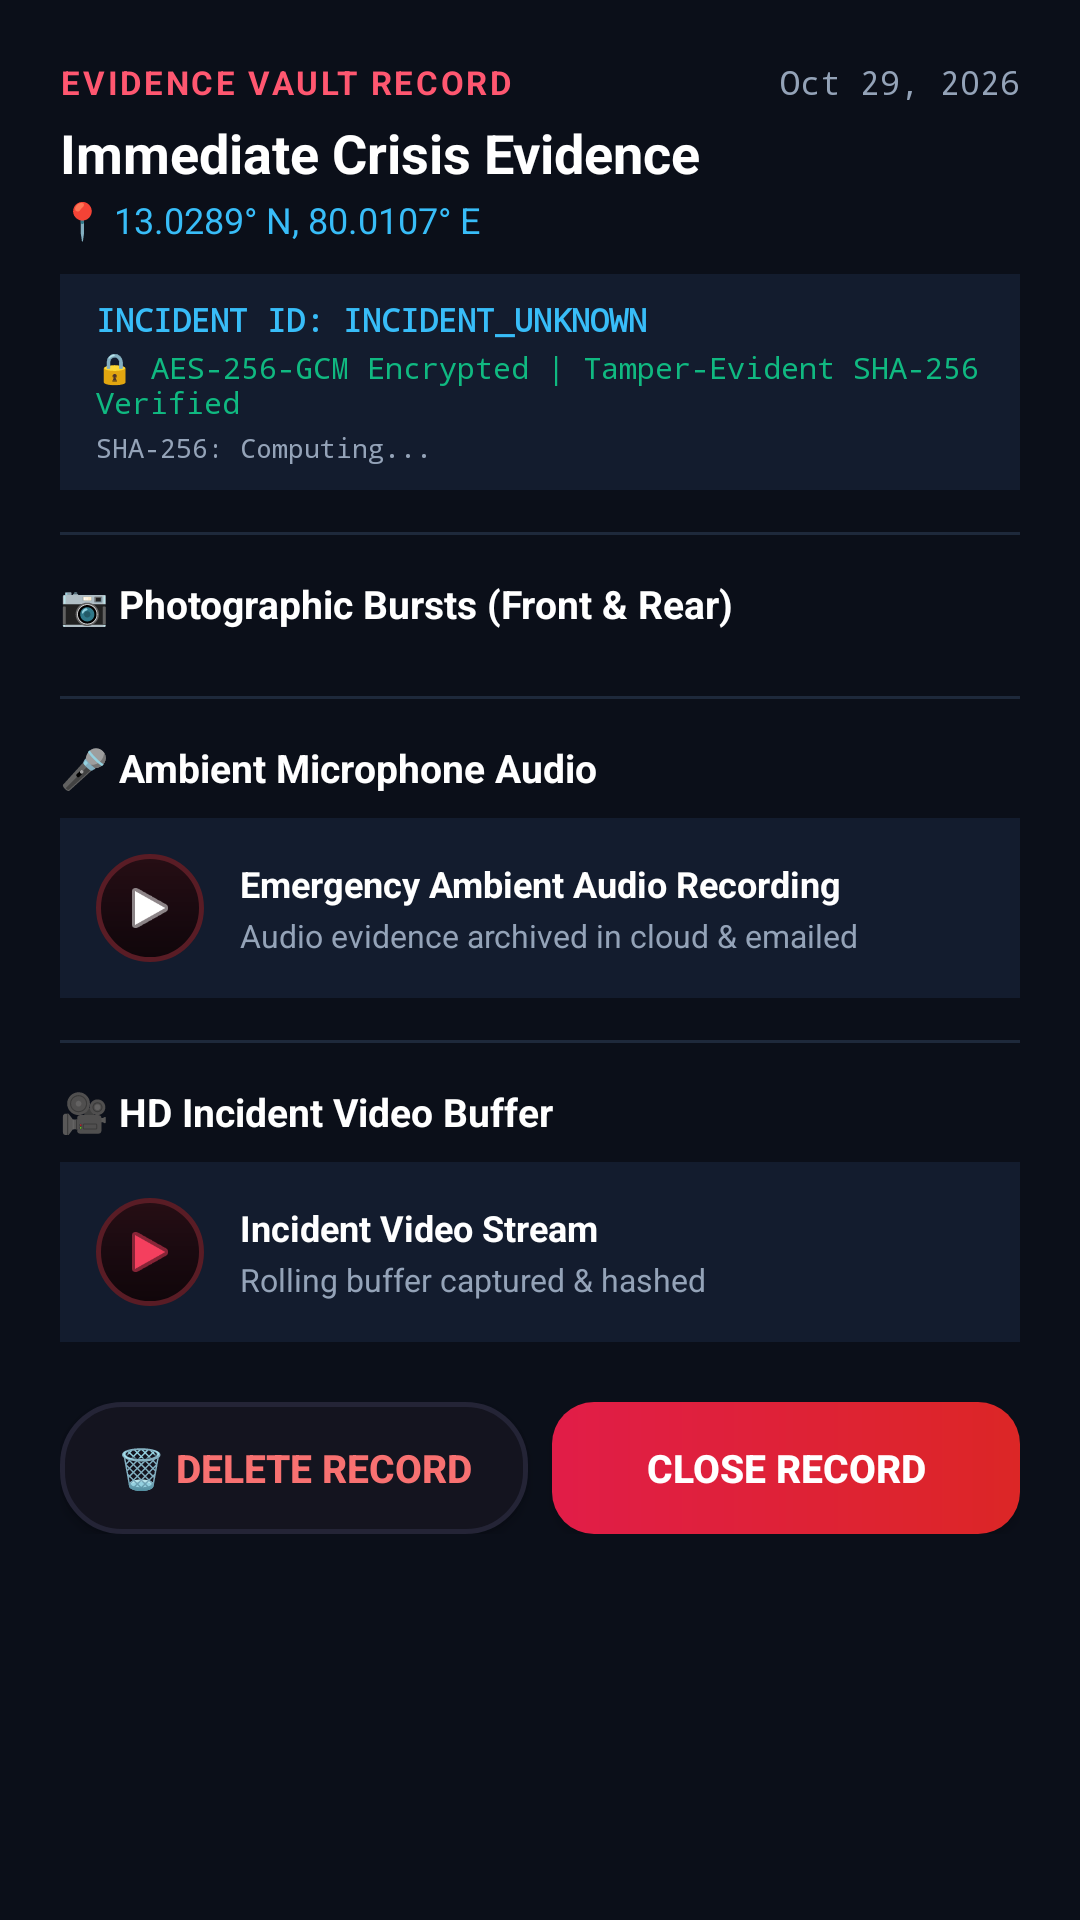

Icon bounding boxes for this 1080x1920 phone screenshot, format (x1, y1, x2, y2):
play: (96, 854, 204, 962), (96, 1198, 204, 1306)
